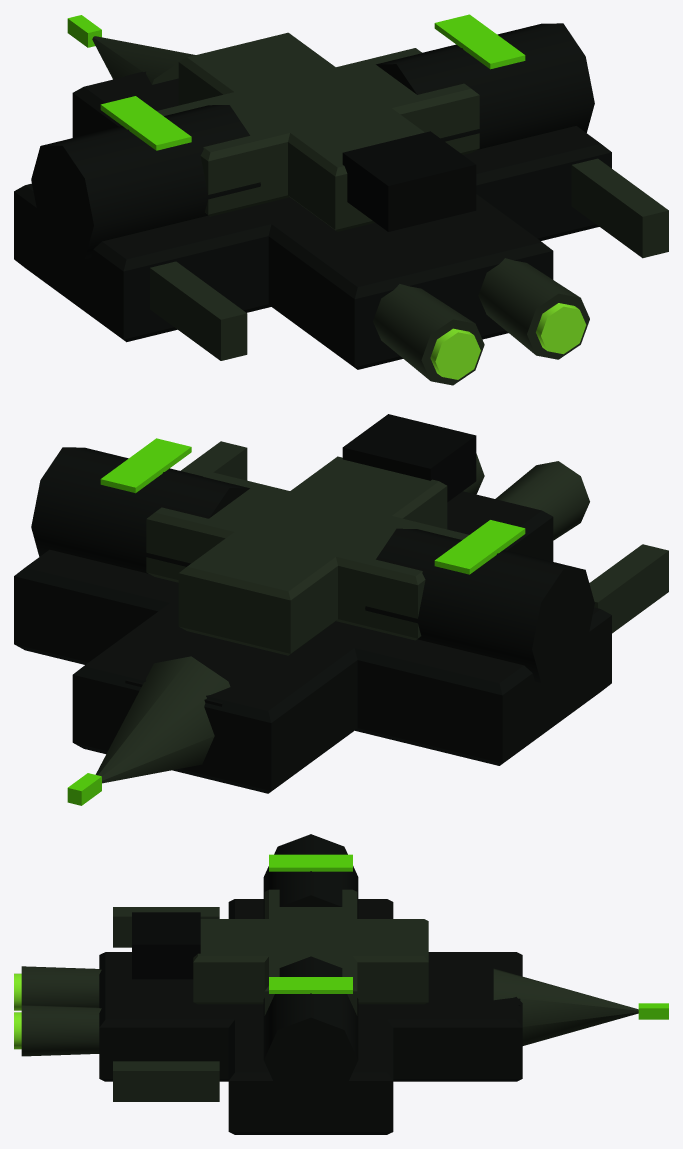
Rendered from Miner.obj.
3 views of the same model, one above another, from view 1: azimuth 30°, elevation 25°; view 2: azimuth 150°, elevation 25°; view 3: azimuth 270°, elevation 25° (orthographic). The views are drawn at different scales.
Parts seen in each view (by area): view 1: miner_hull, miner_orepod, miner_spine, miner_arm, miner_engine_nacelle, miner_bridge, miner_podband, miner_engine_bell, miner_drill, miner_drilltip; view 2: miner_hull, miner_spine, miner_orepod, miner_drill, miner_bridge, miner_arm, miner_podband, miner_engine_nacelle, miner_drilltip; view 3: miner_hull, miner_spine, miner_orepod, miner_engine_nacelle, miner_arm, miner_drill, miner_bridge, miner_podband, miner_engine_bell, miner_drilltip.
Boxes of the visible parts, box(x1,y1,x2,y2) form: miner_hull: box(14, 71, 611, 369); miner_orepod: box(31, 23, 594, 259); miner_spine: box(157, 32, 479, 231); miner_arm: box(150, 158, 668, 360); miner_engine_nacelle: box(373, 258, 589, 385); miner_bridge: box(342, 131, 476, 231); miner_podband: box(100, 14, 525, 150); miner_engine_bell: box(430, 303, 586, 379); miner_drill: box(92, 36, 195, 84); miner_drilltip: box(67, 15, 101, 47); miner_hull: box(14, 491, 611, 793); miner_spine: box(146, 456, 468, 655); miner_orepod: box(31, 447, 594, 683); miner_drill: box(95, 656, 230, 783); miner_bridge: box(342, 414, 476, 502); miner_arm: box(180, 441, 668, 633); miner_podband: box(100, 438, 525, 574); miner_engine_nacelle: box(463, 453, 589, 540); miner_drilltip: box(67, 773, 101, 805); miner_hull: box(99, 899, 522, 1134); miner_spine: box(193, 889, 428, 1015); miner_orepod: box(263, 834, 358, 1102); miner_engine_nacelle: box(21, 966, 101, 1056); miner_arm: box(113, 907, 219, 1101); miner_drill: box(493, 968, 638, 1045); miner_bridge: box(132, 912, 200, 979); miner_podband: box(269, 854, 352, 993); miner_engine_bell: box(14, 973, 21, 1049); miner_drilltip: box(638, 1003, 668, 1019).
Bounding box in the file's own units: 22.8 × 7.56 × 34.4.
